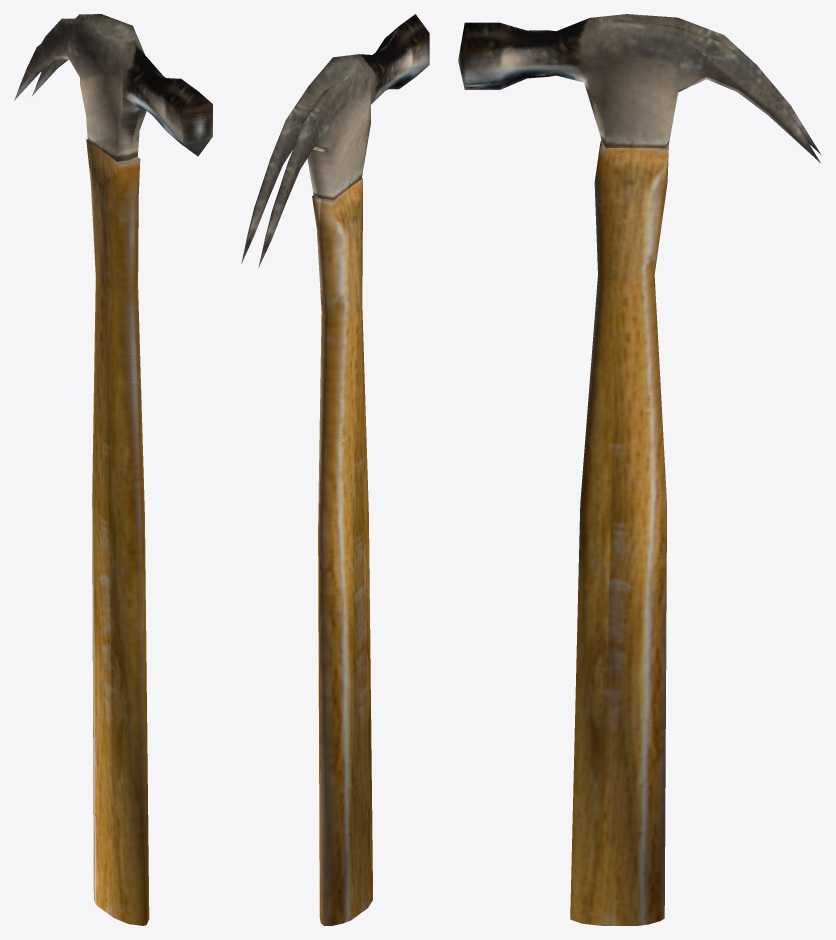
The model's file is ClawHammer.fbx.
The picture shows the model from 3 angles, left to right: view 1: azimuth 30°, elevation 25°; view 2: azimuth 150°, elevation 25°; view 3: azimuth 270°, elevation 25°; orthographic projection. The views are drawn at different scales.
Parts seen in each view (by area): view 1: Model; view 2: Model; view 3: Model.
Boxes of the visible parts, x1=… form: Model: x1=14, y1=14, x2=212, y2=925; Model: x1=241, y1=14, x2=429, y2=925; Model: x1=458, y1=14, x2=820, y2=925.
Size of the model in its own units: 1.38 by 36.29 by 13.1.
1 material, 1 textured.
